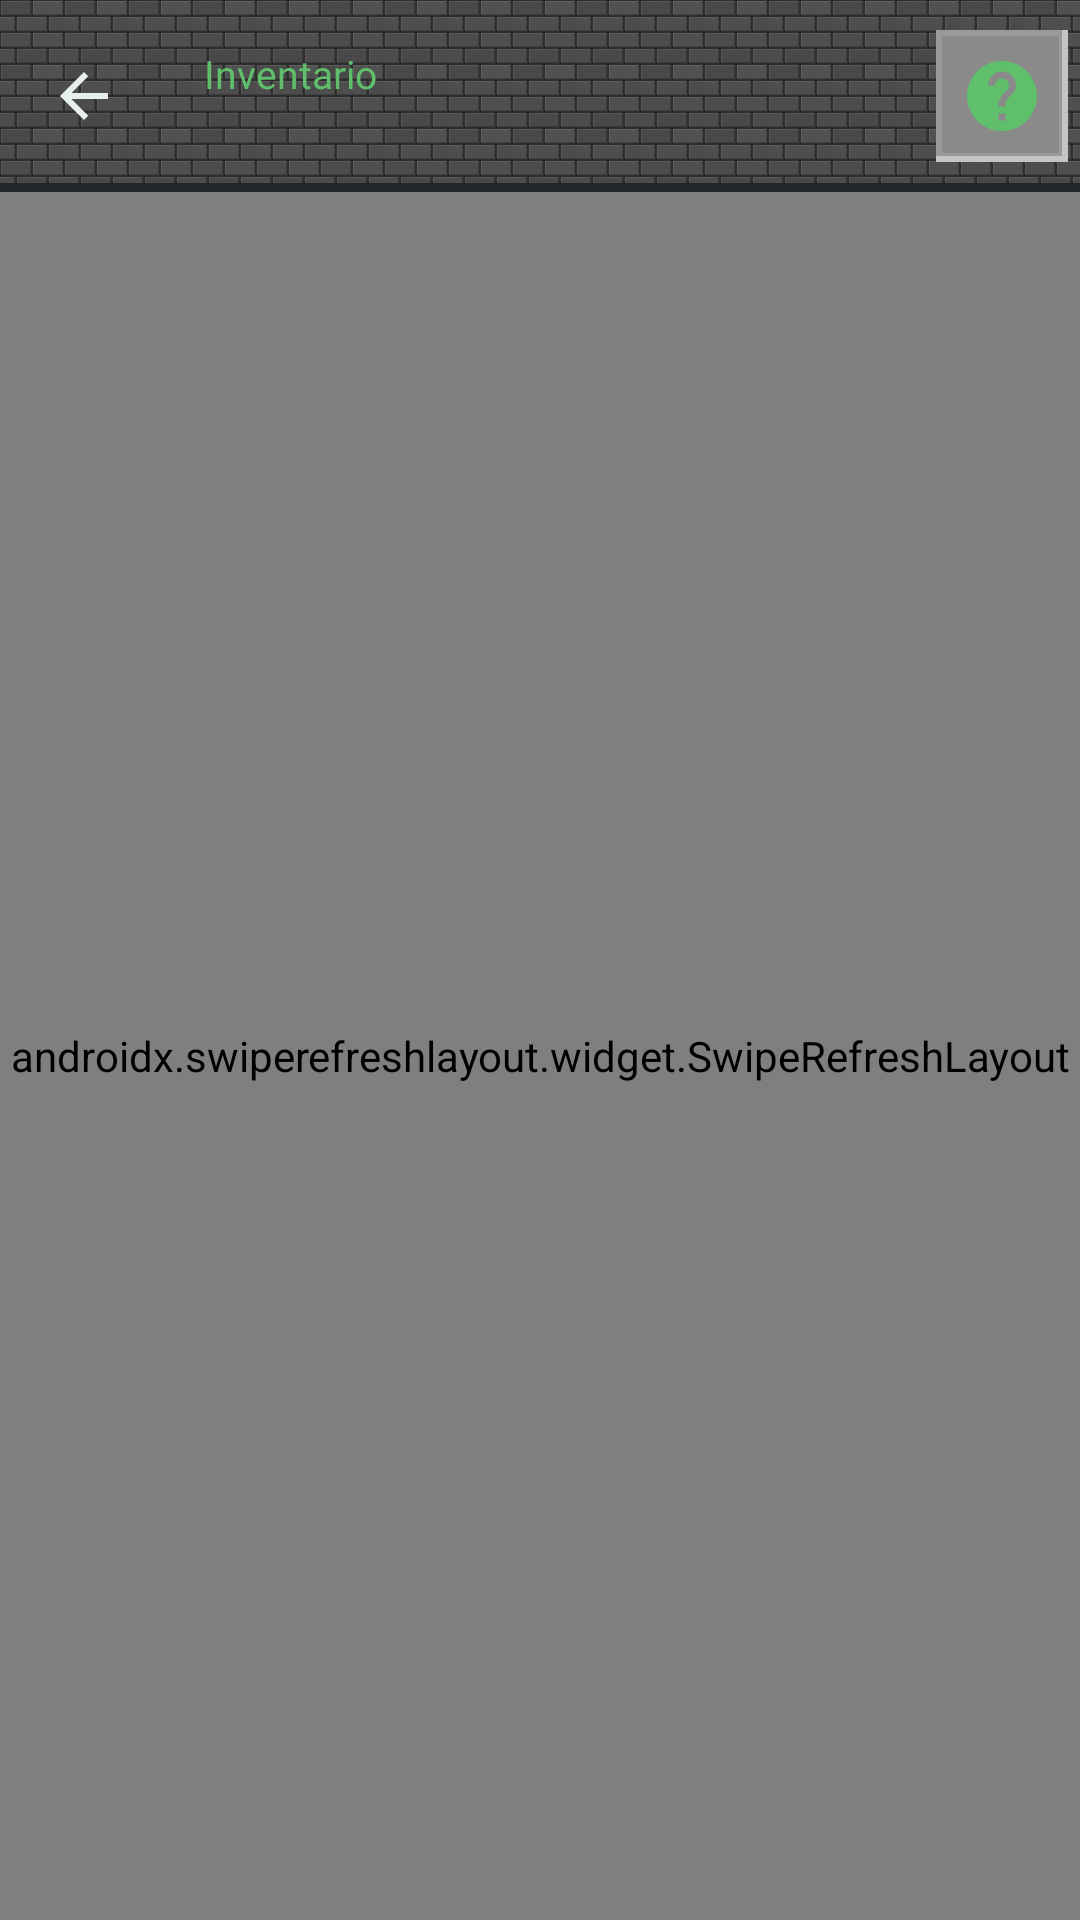

Screen size 1080 x 1920. Icon name, then its box in pixels as (x1, y1, x2, y2):
Aiuto su questa pagina: (936, 30, 1068, 162)
